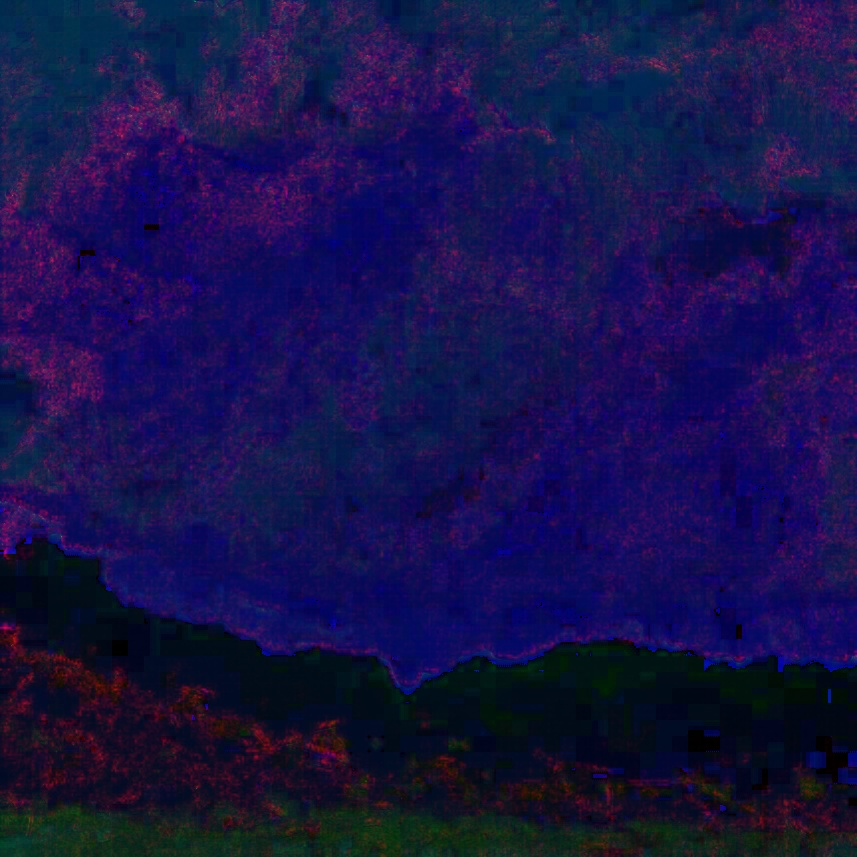rip_current: (195, 109, 687, 602)
